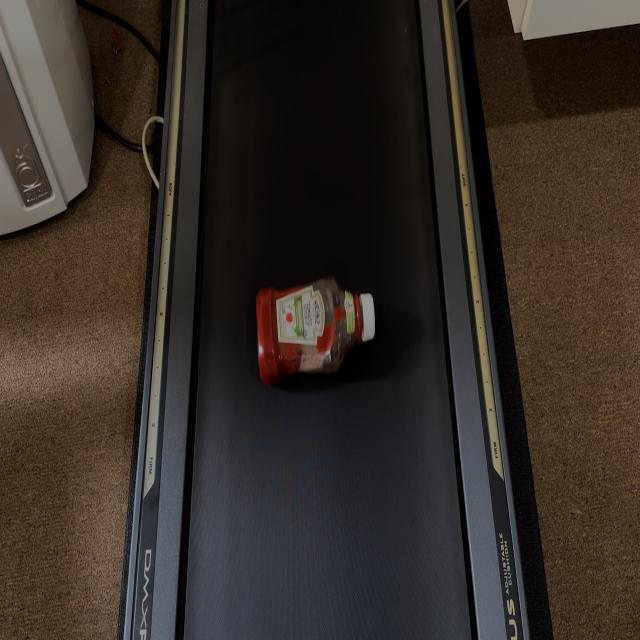Trash: (255, 278, 376, 385)
